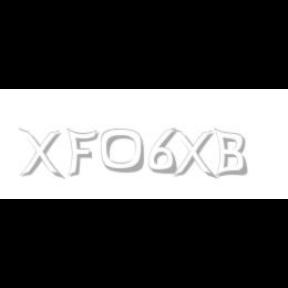6: (148, 128, 178, 176)
B: (213, 128, 247, 178)
F: (66, 128, 98, 178)
O: (100, 128, 145, 174)
X: (18, 128, 62, 180), (171, 128, 215, 180)
